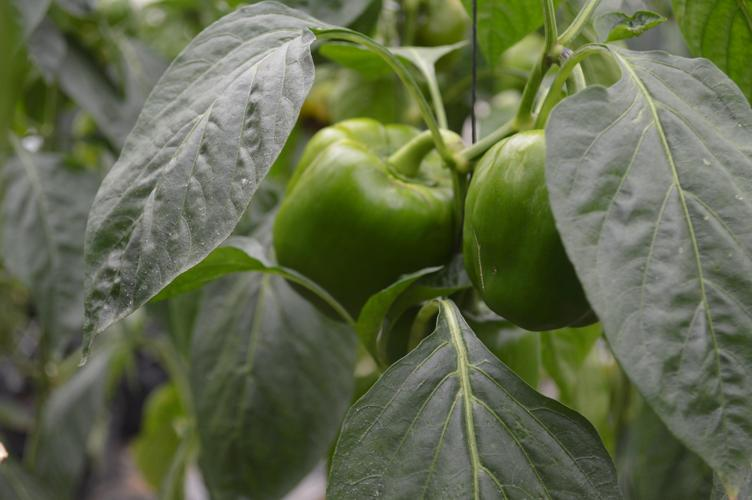BellPepper: (262, 110, 464, 312), (458, 130, 659, 331)
